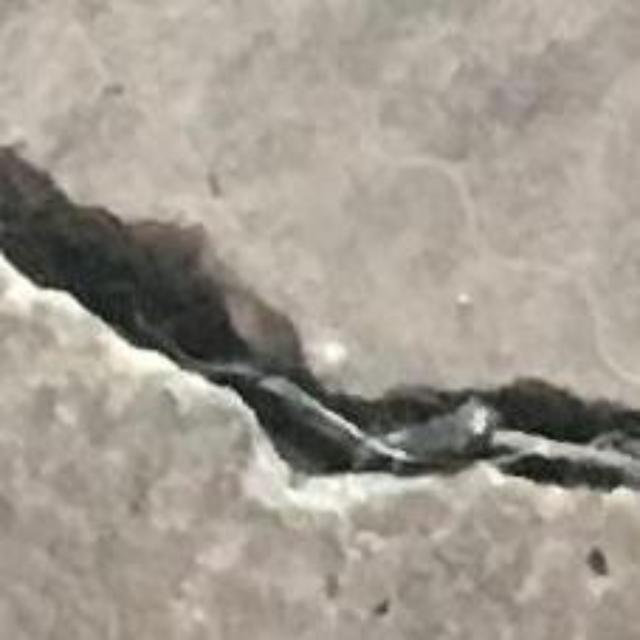crack: (0, 147, 639, 490)
